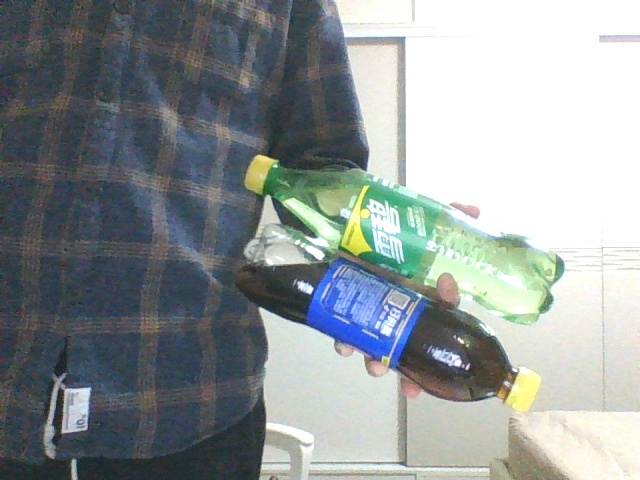Cola: (239, 224, 541, 408)
Sprite: (243, 154, 563, 330)
